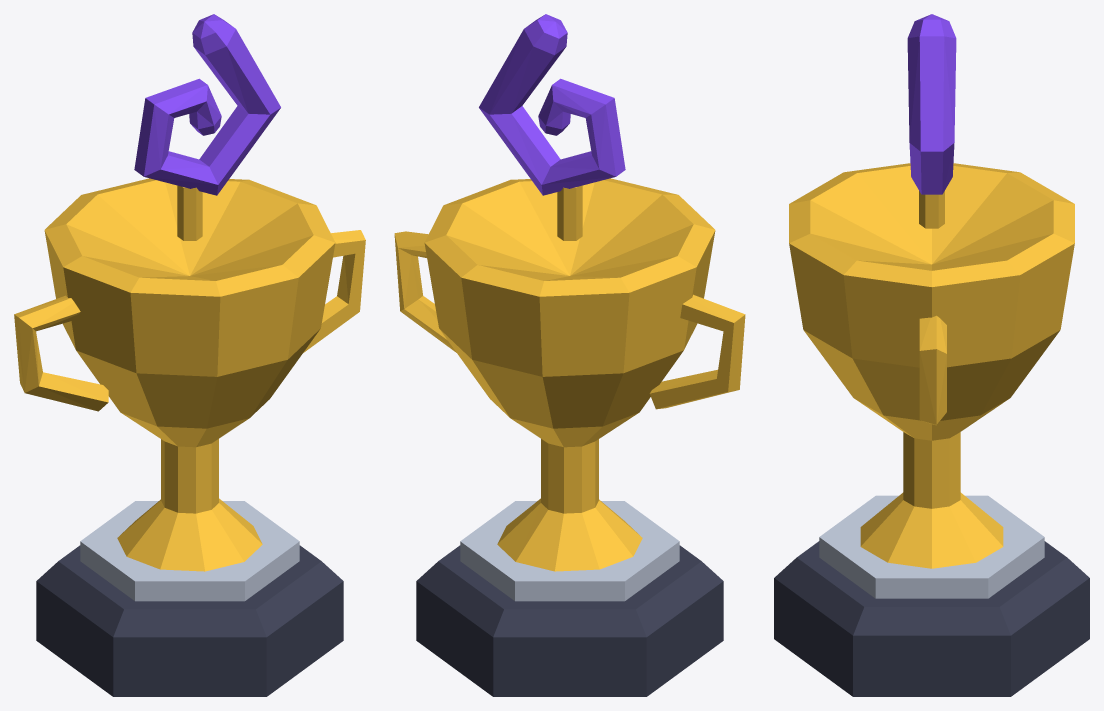
File: trophy_nebula.obj
The picture shows the model from 3 angles, left to right: view 1: azimuth 30°, elevation 25°; view 2: azimuth 150°, elevation 25°; view 3: azimuth 270°, elevation 25°; orthographic projection. The views are drawn at different scales.
Bounding box in the file's own units: 1.09 × 1.86 × 0.84.
